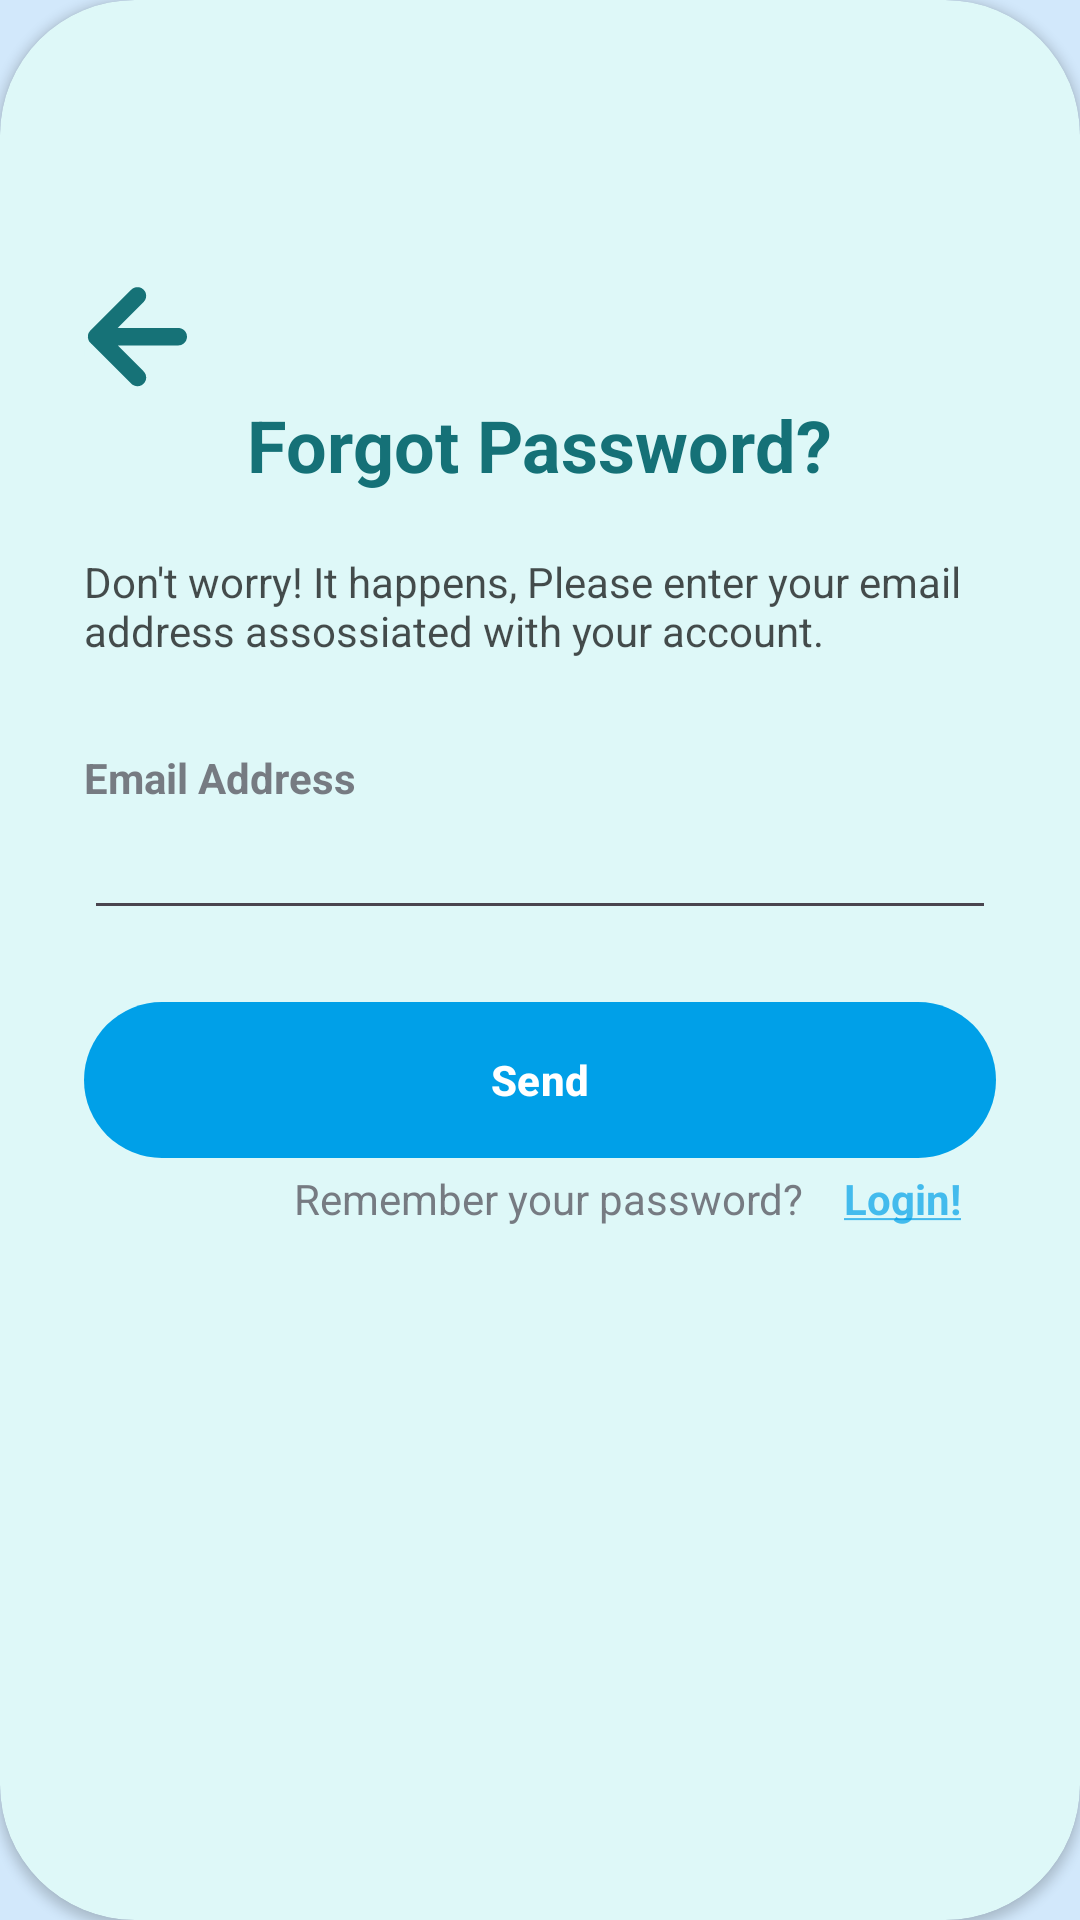

Point at icon controls on the screen. Image size 1080px x 1920px, points as point (x, y).
back: point (137, 337)
